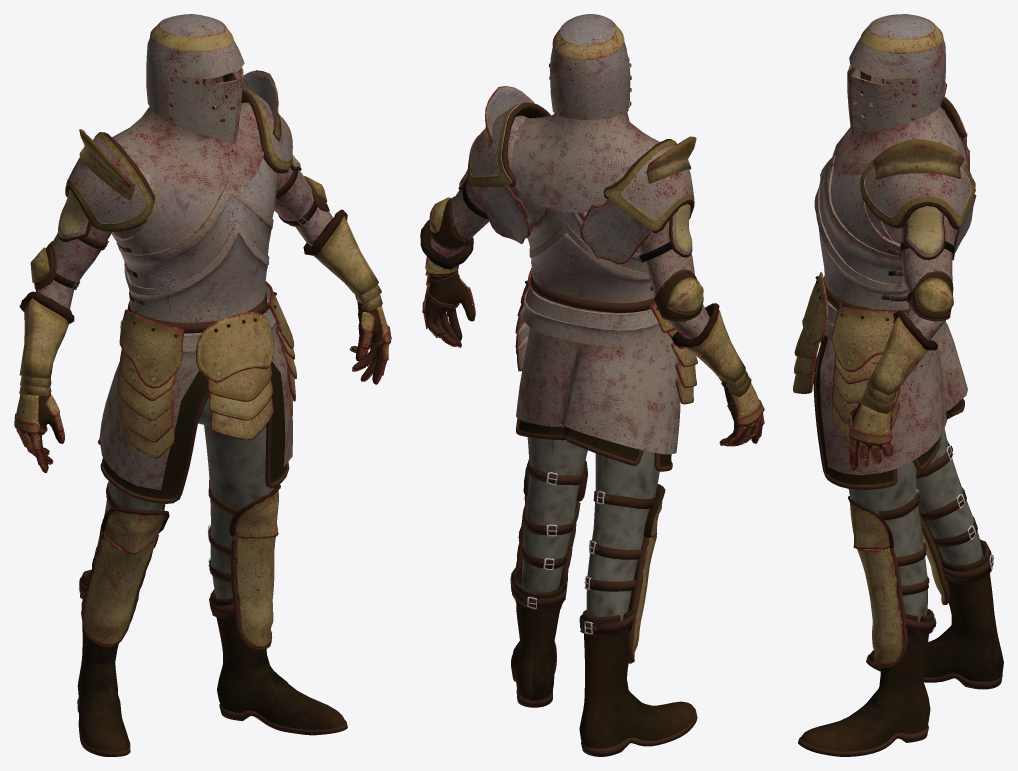
3 renders of one model, left to right at view 1: azimuth 30°, elevation 25°; view 2: azimuth 150°, elevation 25°; view 3: azimuth 270°, elevation 25°, orthographic. The views are drawn at different scales.
Parts seen in each view (by area): view 1: Metal, Cloth; view 2: Metal, Cloth; view 3: Metal, Cloth.
Part boxes in pixels (x1,y1,x2,y2): Metal: (14, 14, 391, 647); Cloth: (19, 73, 385, 756); Metal: (422, 14, 764, 659); Cloth: (420, 102, 760, 756); Metal: (793, 14, 976, 665); Cloth: (798, 71, 1003, 756).
Size of the model in its own units: 1.05 by 2 by 0.5542.
2 materials, 2 textured.
